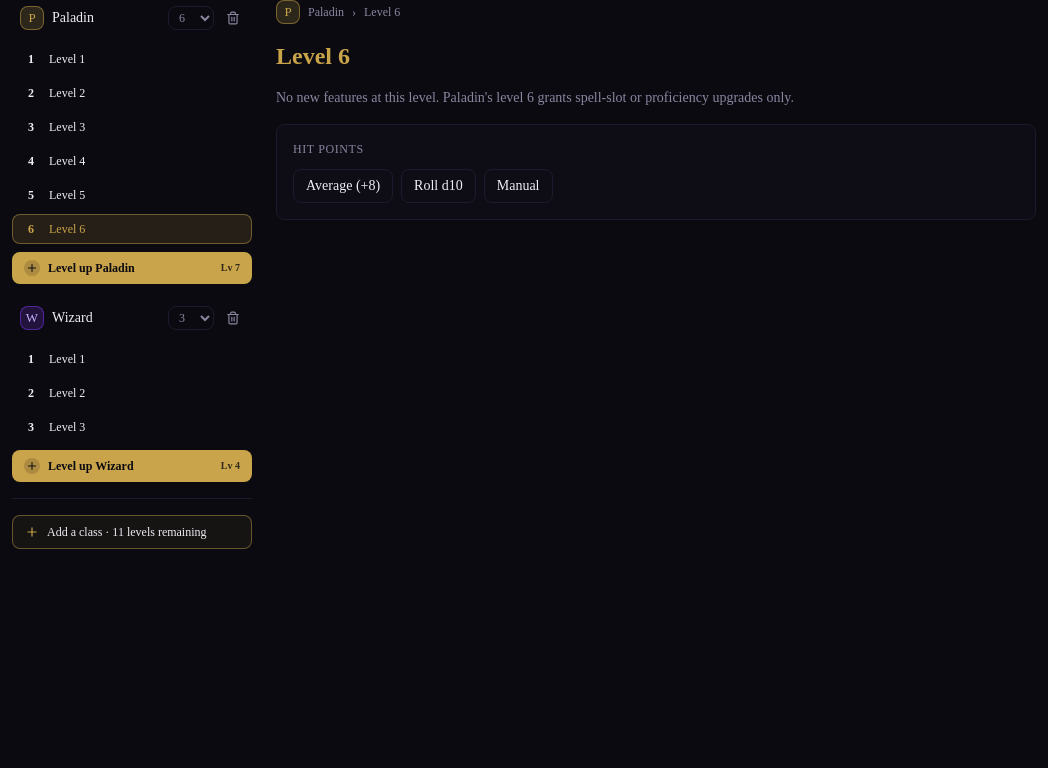
Test: ClassStepRail — level-up flow › clicking 'Cancel level-up' returns to ClassLevelPane and re-enables the rail
Click the button with aria-label "Level up Paladin to level 7" at (132, 268), box [12,252,252,284]
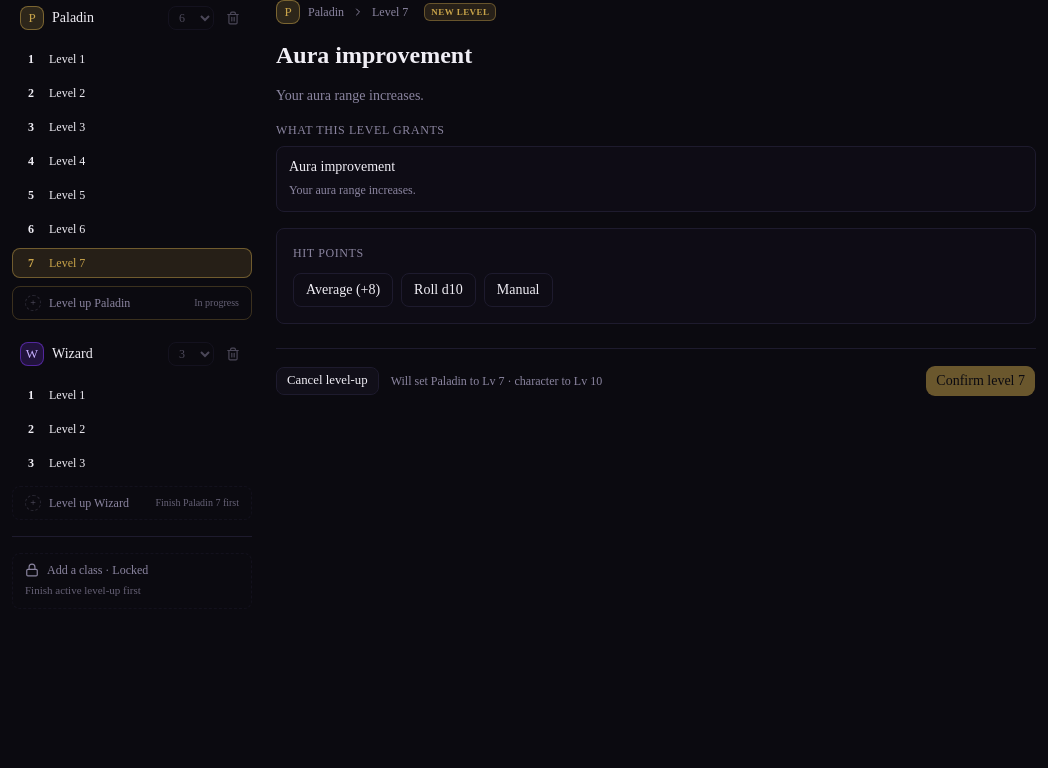
Expected: the text "NEW LEVEL" is shown, [424,3,496,21]
Click the button "Cancel level-up" at (327, 380), box [276,366,379,394]
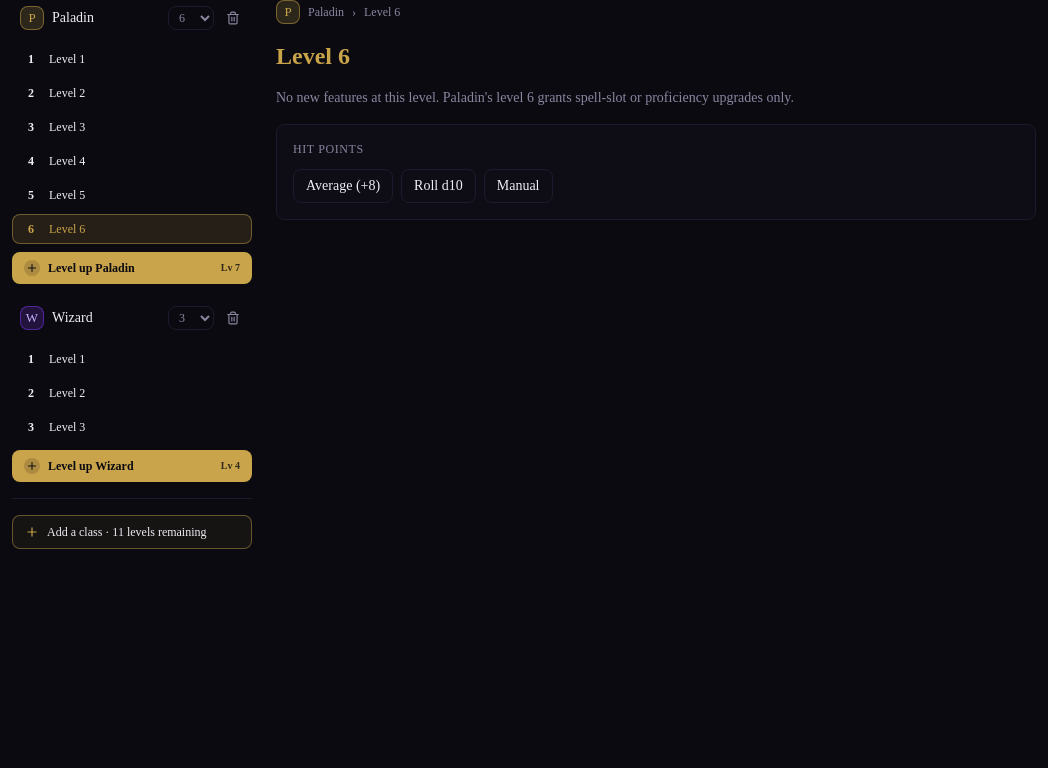
Expected: the text "NEW LEVEL" is gone
Expected: the dropdown named "Set level for Paladin" is enabled, [168,6,214,30]
